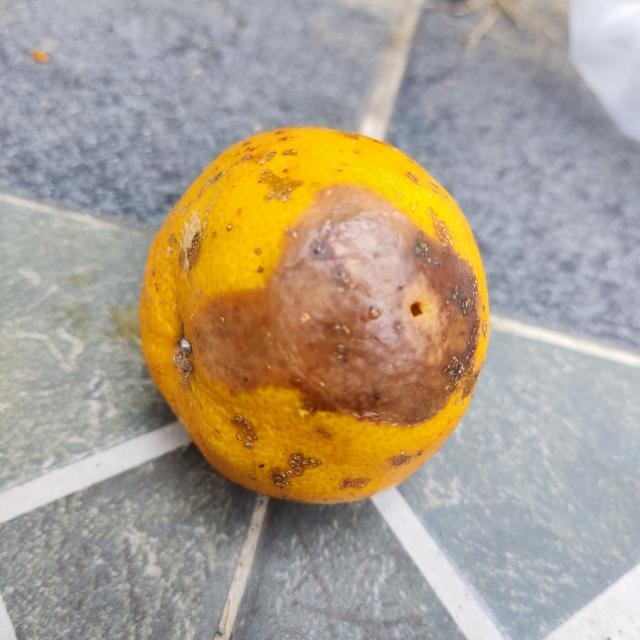agrume: (139, 123, 490, 506)
